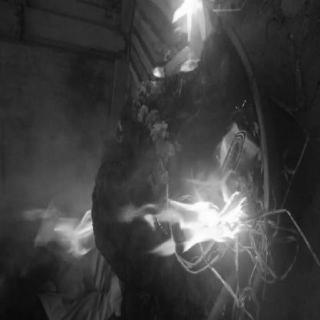Fire: (146, 192, 267, 255), (164, 1, 216, 41), (60, 210, 98, 261), (20, 198, 54, 228)
